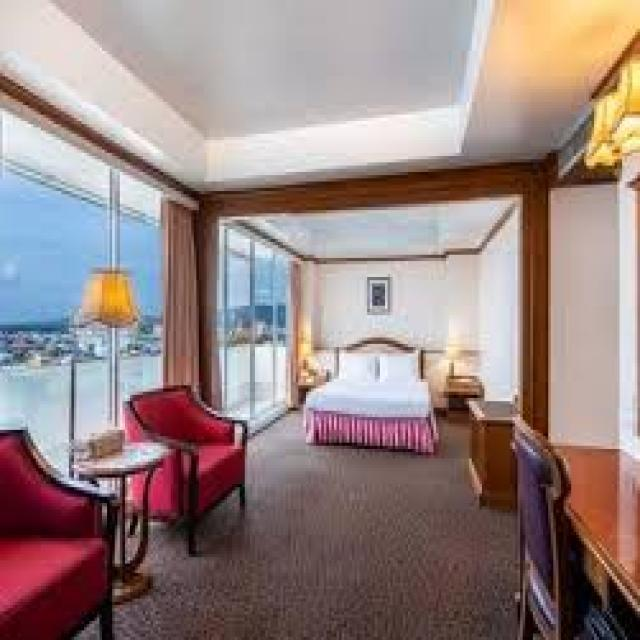bed: (301, 334, 438, 452)
sofa: (116, 373, 256, 557), (0, 423, 117, 636)
